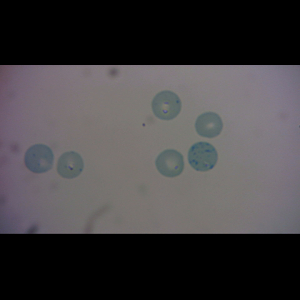aggregate reticulocyte: (187, 141, 218, 172)
erythrocyte: (152, 90, 182, 121), (155, 148, 185, 178), (195, 112, 223, 139)
punctate reticulocyte: (23, 143, 55, 175), (56, 151, 84, 180)
